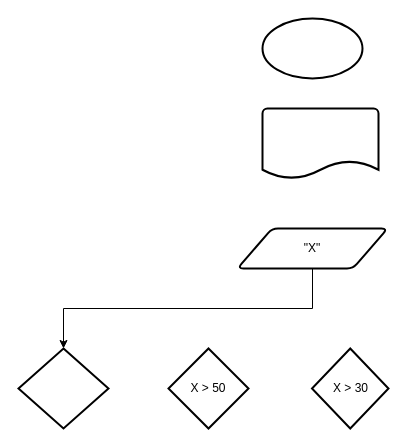
Image size: 406x446. Some labels were removed from this diagram. Here are the shapes that lost their labels. From the top down, the box of each, then its label:
(261, 107, 379, 179): Insertar "X" cantidad de alumnos
(17, 347, 109, 429): X >= 100
